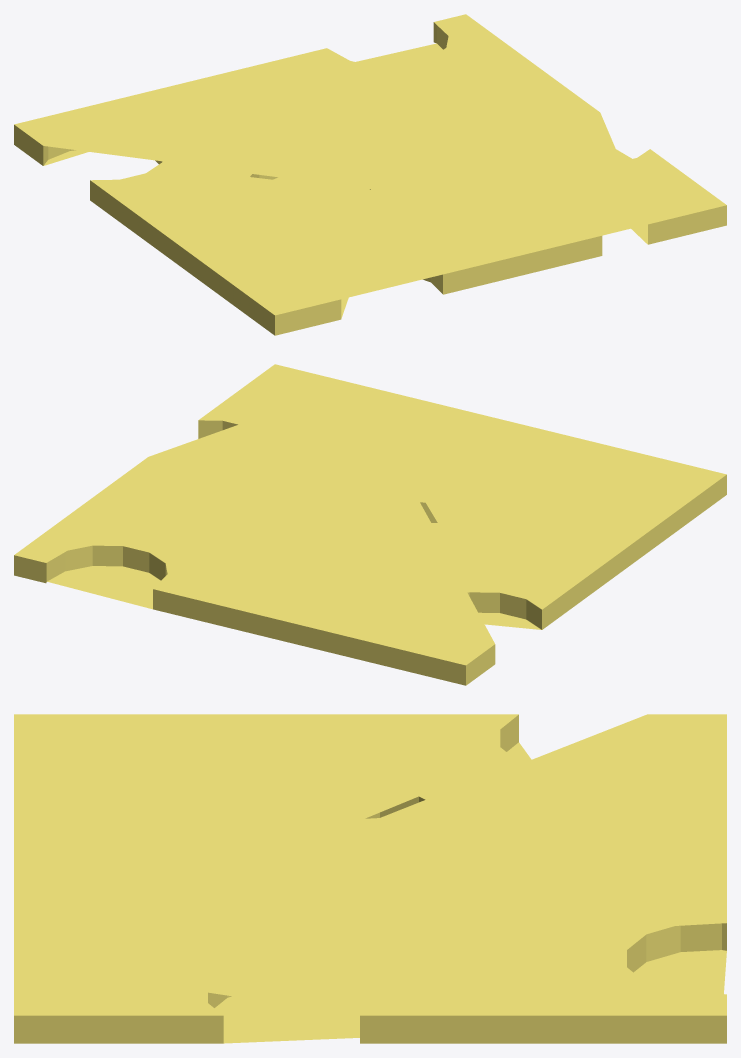
Rendered from Cheese.fbx.
3 renders of one model, top to bottom at view 1: azimuth 30°, elevation 25°; view 2: azimuth 150°, elevation 25°; view 3: azimuth 270°, elevation 25°, orthographic. The views are drawn at different scales.
Parts seen in each view (by area): view 1: Cube; view 2: Cube; view 3: Cube.
Part boxes in pixels (x1,y1,x2,y2): Cube: (14,14,726,335); Cube: (14,364,726,685); Cube: (14,714,726,1043).
Bounding box in the file's own units: 179 × 7.68 × 179.
